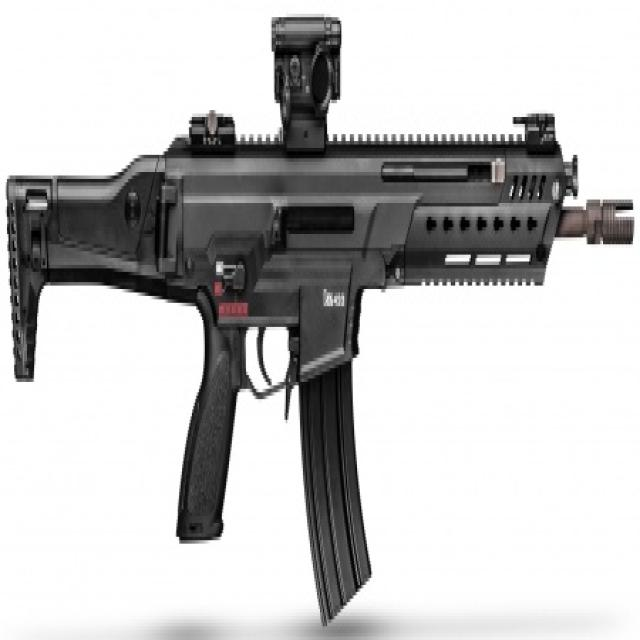rifle: (1, 1, 640, 636)
